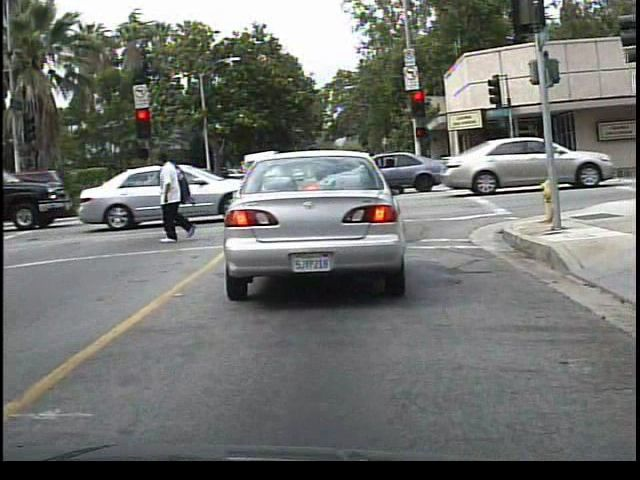person: (154, 152, 209, 245)
